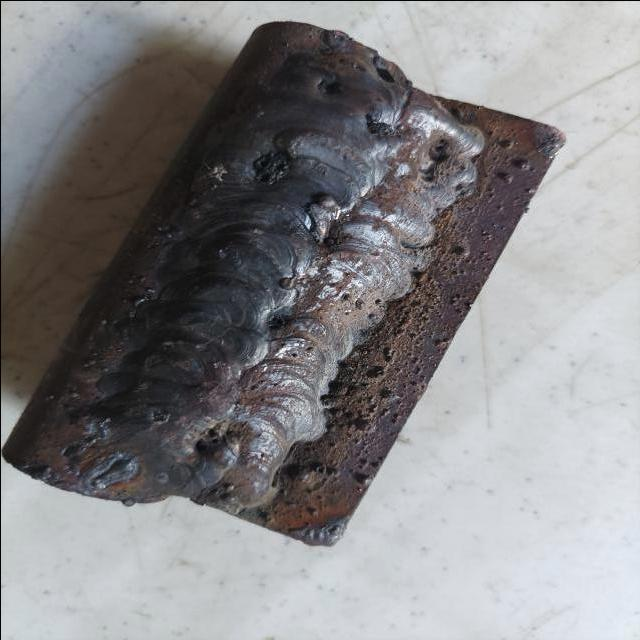defect: (250, 146, 299, 188), (309, 72, 354, 102), (190, 423, 225, 454), (361, 112, 401, 139), (140, 404, 169, 425), (266, 315, 290, 331)
